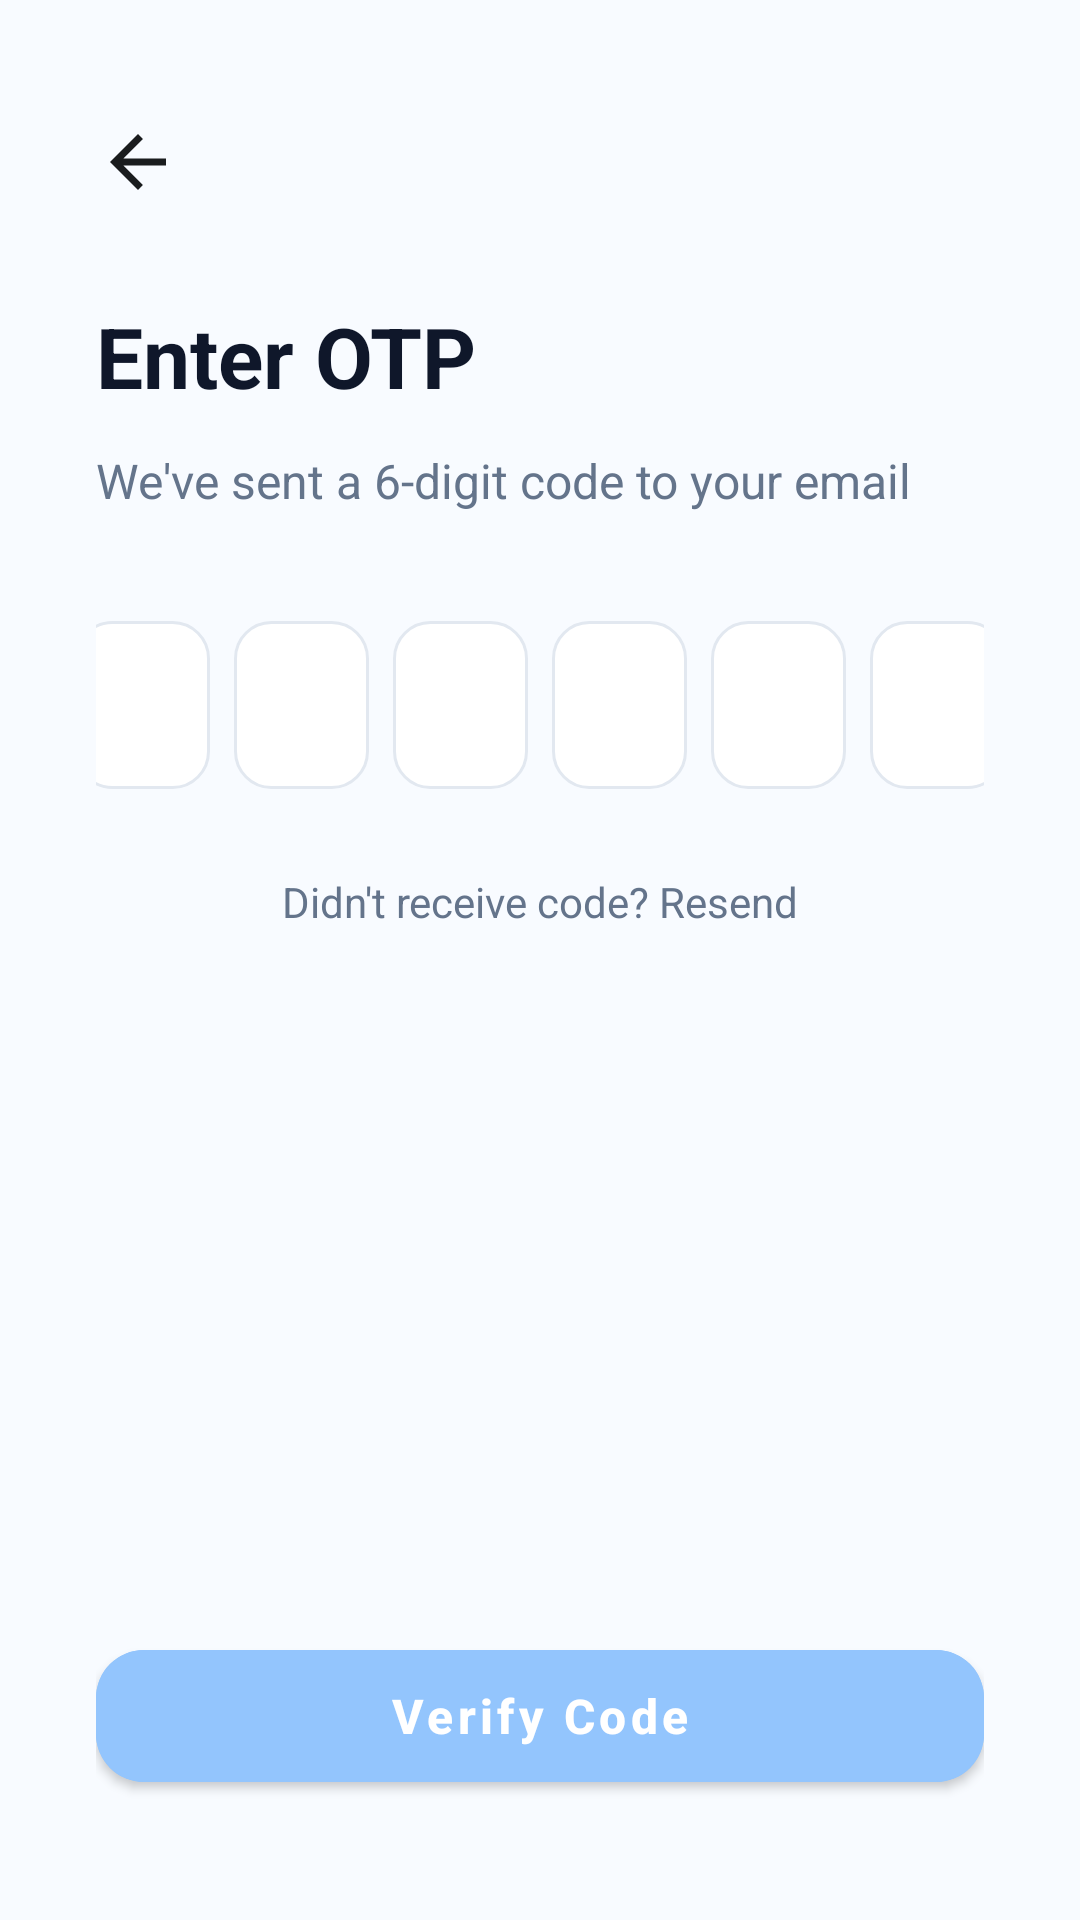

Locate icon controls on the screen. Image size 1080 x 1920, boxes as (x1, y1, x2, y2).
back: (110, 134, 166, 190)
